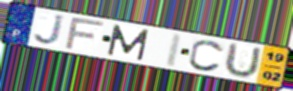C: (187, 38, 226, 73)
F: (63, 17, 108, 51)
I: (164, 32, 185, 69)
J: (33, 13, 67, 47)
M: (106, 23, 152, 62)
U: (221, 41, 263, 79)
